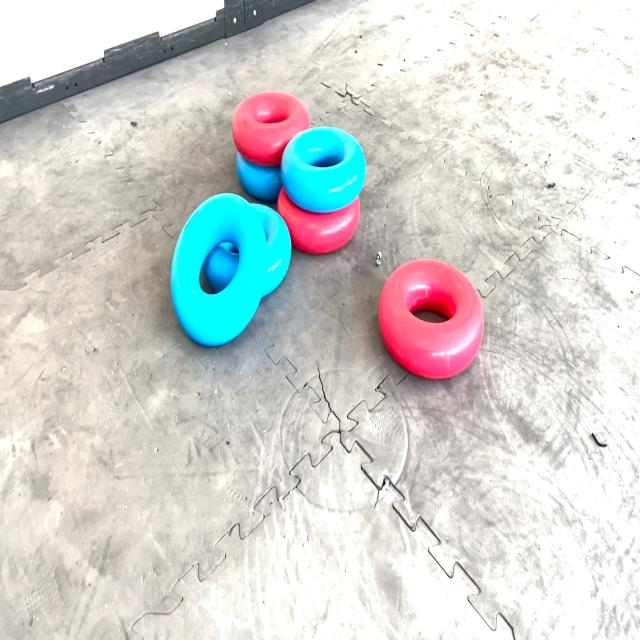Blue-Ring: (171, 193, 264, 347), (280, 127, 365, 213), (249, 204, 291, 298), (236, 153, 282, 201)
Red-Ring: (379, 260, 484, 378), (232, 91, 310, 167), (278, 187, 360, 253)
